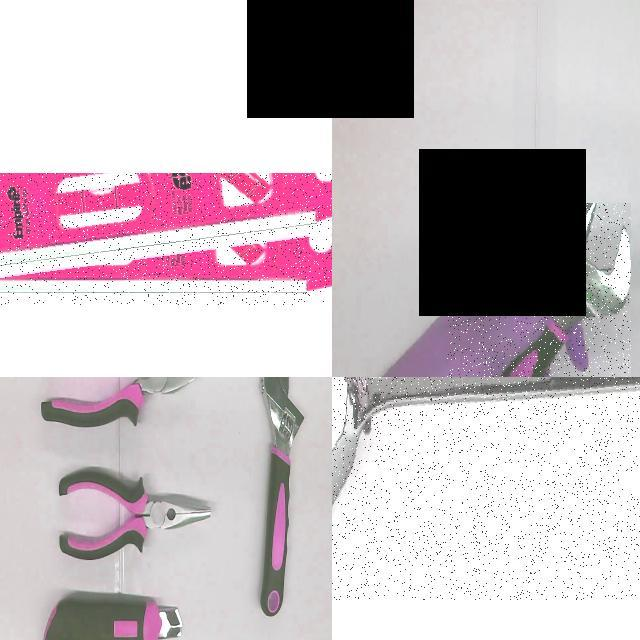estilete: (44, 591, 181, 639)
